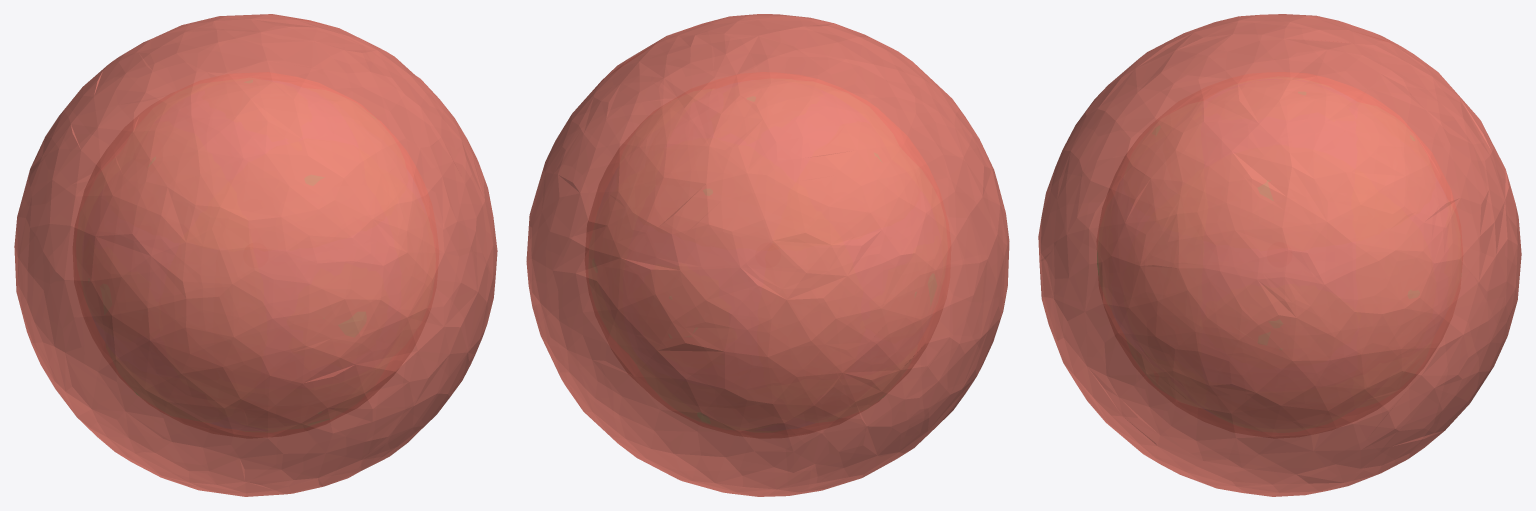
Rendered from orbital.glb.
3 renders of one model, left to right at view 1: azimuth 30°, elevation 25°; view 2: azimuth 150°, elevation 25°; view 3: azimuth 270°, elevation 25°, orthographic.
Parts seen in each view (by area): view 1: Mn_n4_s_ml0_node, Mn_n3_s_ml0_node; view 2: Mn_n4_s_ml0_node, Mn_n3_s_ml0_node; view 3: Mn_n4_s_ml0_node, Mn_n3_s_ml0_node.
Boxes of the visible parts, left/top/right/bottom form: Mn_n4_s_ml0_node: left=14, top=14, right=497, bottom=496; Mn_n3_s_ml0_node: left=73, top=72, right=438, bottom=438; Mn_n4_s_ml0_node: left=526, top=14, right=1009, bottom=496; Mn_n3_s_ml0_node: left=585, top=72, right=950, bottom=438; Mn_n4_s_ml0_node: left=1038, top=14, right=1521, bottom=496; Mn_n3_s_ml0_node: left=1096, top=72, right=1462, bottom=438.
Size of the model in its own units: 2.06 by 2.07 by 2.06.
